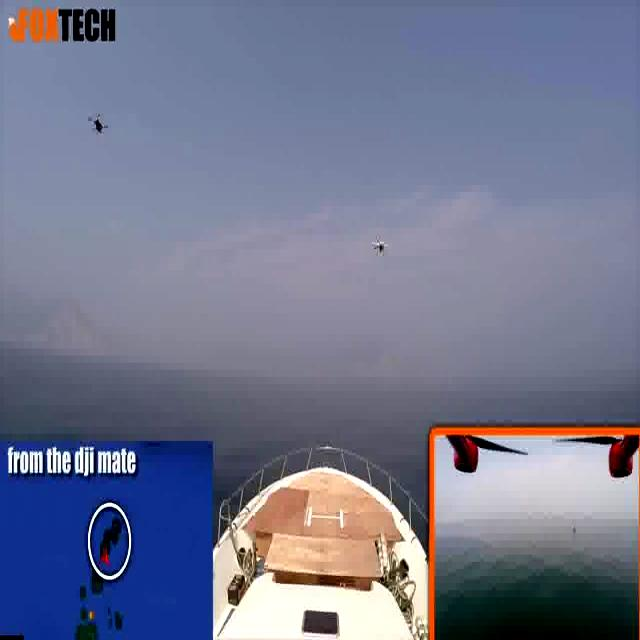drone: (84, 107, 110, 142), (371, 231, 391, 259)
